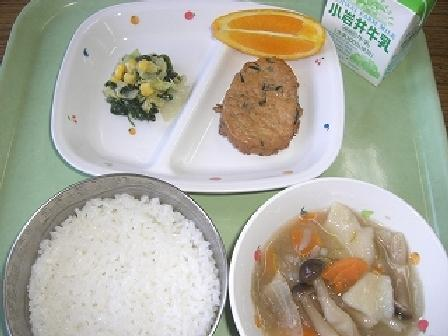Citrus: (208, 4, 330, 61)
Meat: (217, 55, 313, 155)
Milk: (319, 0, 437, 79)
Rice: (5, 165, 220, 335)
Salad: (97, 34, 200, 130)
Soups: (229, 177, 448, 336)
